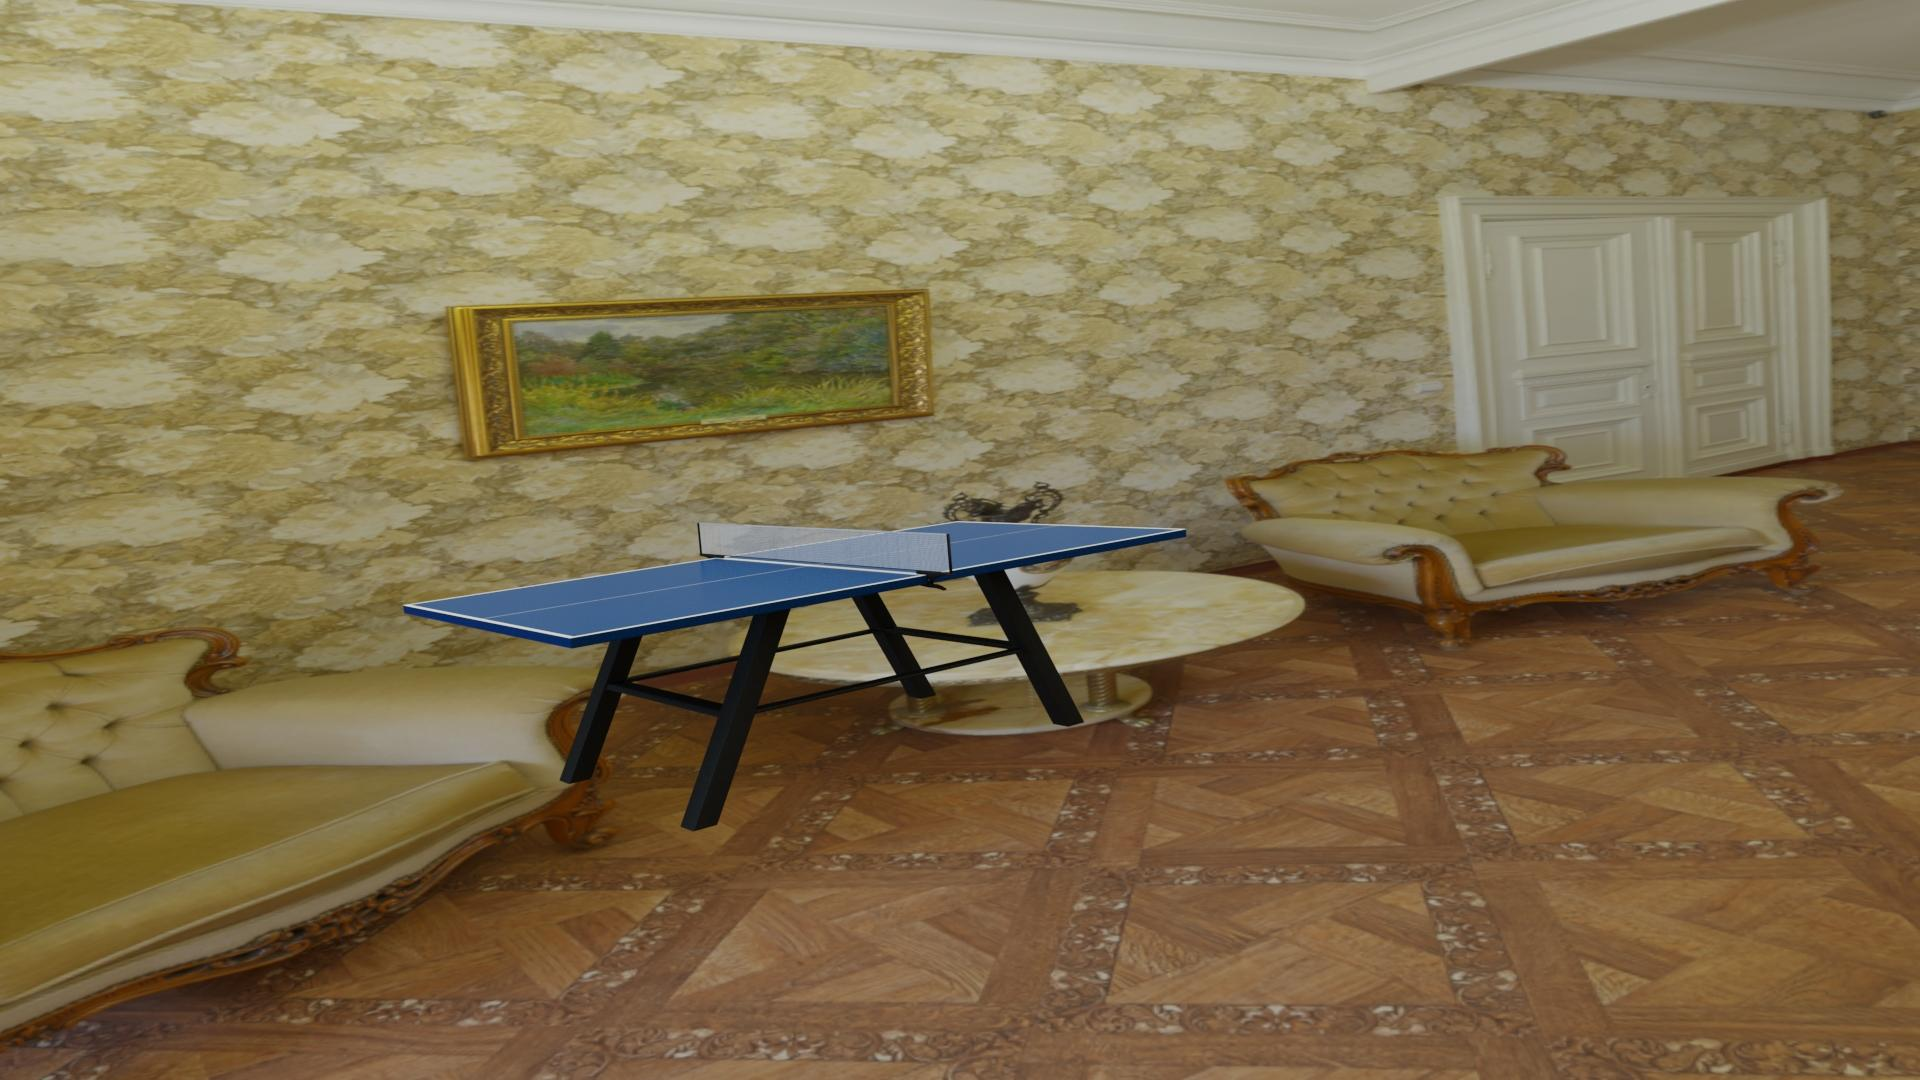table: (410, 522, 1180, 637)
